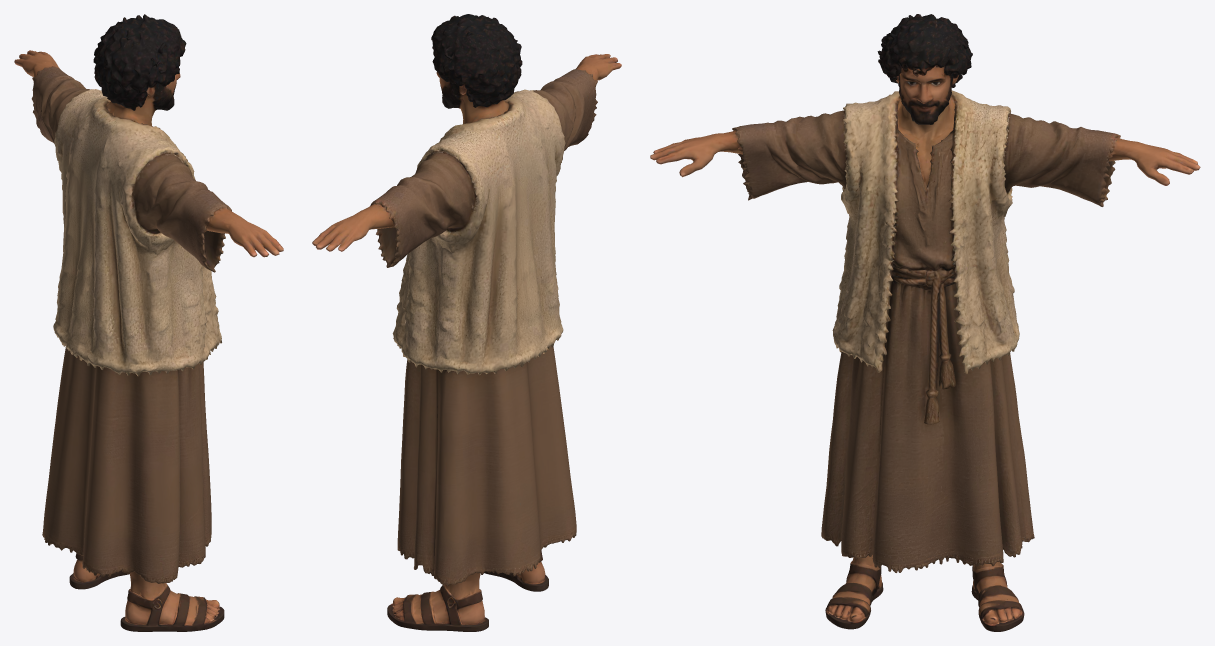
The model's file is joseph-tripo-source.glb.
3 views of the same model, side by side, from view 1: azimuth 30°, elevation 25°; view 2: azimuth 150°, elevation 25°; view 3: azimuth 270°, elevation 25° (orthographic).
Parts seen in each view (by area): view 1: tripo_node_6d3129ca-5fab-4811-834b-ac97e912f17b; view 2: tripo_node_6d3129ca-5fab-4811-834b-ac97e912f17b; view 3: tripo_node_6d3129ca-5fab-4811-834b-ac97e912f17b.
Boxes of the visible parts, bbox=[...] form: tripo_node_6d3129ca-5fab-4811-834b-ac97e912f17b: bbox=[14, 14, 283, 631]; tripo_node_6d3129ca-5fab-4811-834b-ac97e912f17b: bbox=[312, 14, 621, 631]; tripo_node_6d3129ca-5fab-4811-834b-ac97e912f17b: bbox=[650, 14, 1200, 631].
Size of the model in its own units: 0.2557 by 1 by 0.8442.
1 material, 1 textured.
